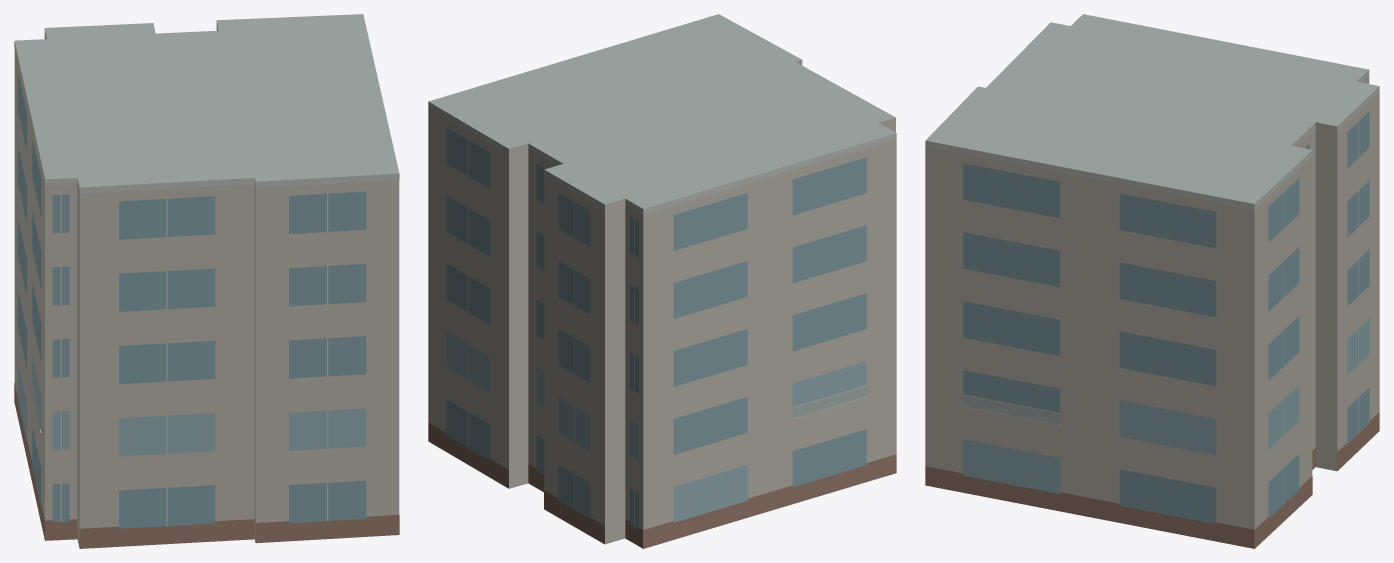
Rendered from survey-upis-33013459.glb.
3 renders of one model, left to right at view 1: azimuth 30°, elevation 25°; view 2: azimuth 150°, elevation 25°; view 3: azimuth 270°, elevation 25°, orthographic. The views are drawn at different scales.
Visible parts, largest first — view 1: survey-upis-33013459.tmp; view 2: survey-upis-33013459.tmp; view 3: survey-upis-33013459.tmp.
Part boxes in pixels (<box>): survey-upis-33013459.tmp: <box>14,14,399,548</box>; survey-upis-33013459.tmp: <box>428,14,896,548</box>; survey-upis-33013459.tmp: <box>925,14,1379,548</box>.
Bounding box in the file's own units: 16.91 × 14.3 × 17.08.
